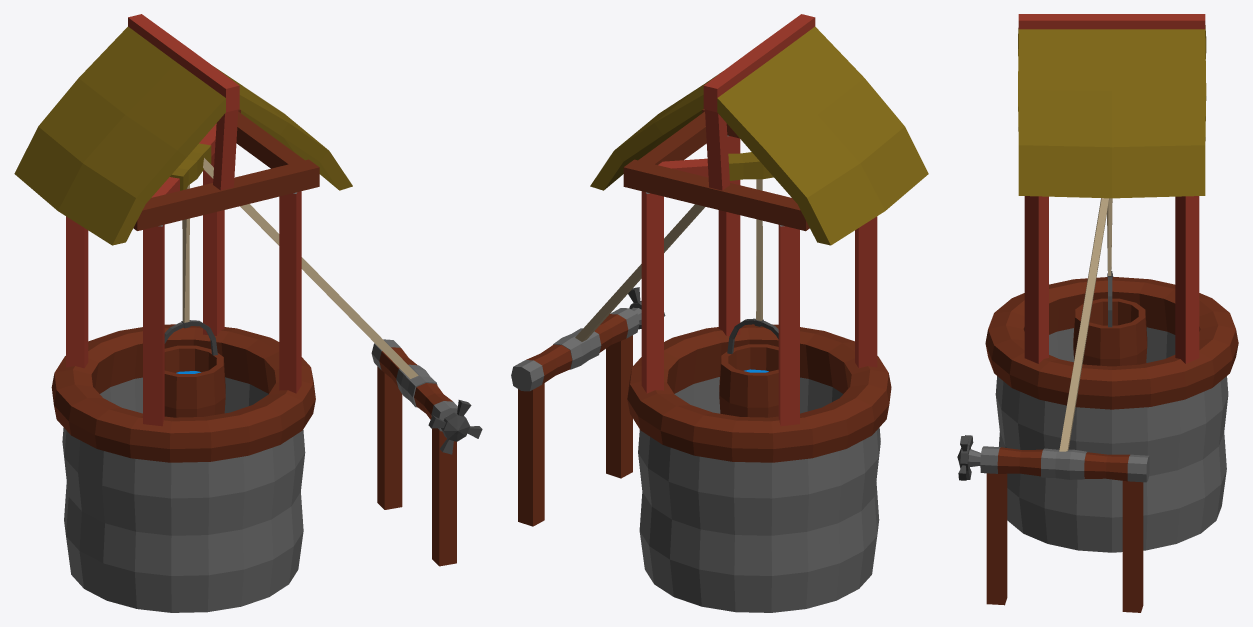
Rendered from Poco - Pedra.fbx.
3 renders of one model, left to right at view 1: azimuth 30°, elevation 25°; view 2: azimuth 150°, elevation 25°; view 3: azimuth 270°, elevation 25°, orthographic. The views are drawn at different scales.
Visible parts, largest first — view 1: Poco; view 2: Poco; view 3: Poco.
Boxes of the visible parts, x1,y1,x2,y2 form: Poco: (14, 14, 482, 612); Poco: (511, 14, 928, 612); Poco: (957, 14, 1238, 612).
Bounding box in the file's own units: 202 × 279 × 145.
